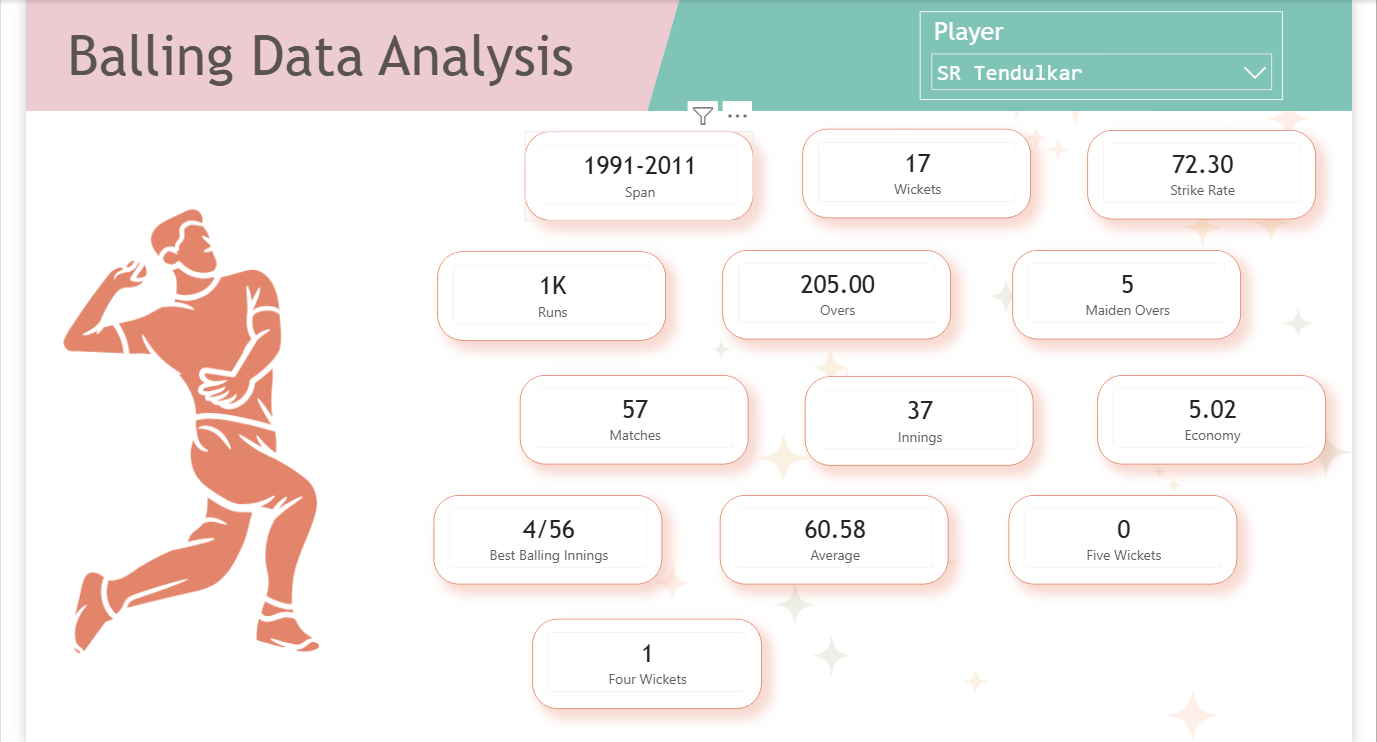

This screenshot's page, from the dashboard's own definition file:
{"tool":"powerbi","page":{"name":"Bowling","canvas":[1280,720],"ordinal":1},"visuals":[{"type":"shape","box":[0,0,640,107.1],"z":0},{"type":"shape","box":[1084.5,0,195.5,107.1],"z":1000},{"type":"shape","box":[599.8,0,680.2,107.1],"z":2000},{"type":"cardVisual","fields":{"Data":["Min(Bowling Table.Span)"]},"box":[481.7,127.1,221,86],"z":3000},{"type":"cardVisual","fields":{"Data":["Sum(Bowling Table.Wkts)"]},"box":[749.1,124.7,221,86],"z":4000},{"type":"cardVisual","fields":{"Data":["Sum(Bowling Table.SR)"]},"box":[1024.2,125.9,221,86],"z":5000},{"type":"cardVisual","fields":{"Data":["Sum(Bowling Table.Runs)"]},"box":[396.6,242,221,86],"z":6000},{"type":"cardVisual","fields":{"Data":["Sum(Bowling Table.Overs)"]},"box":[671.8,241.5,221,86],"z":7000},{"type":"cardVisual","fields":{"Data":["Sum(Bowling Table.Mdns)"]},"box":[951.7,241.5,221,86],"z":8000},{"type":"cardVisual","fields":{"Data":["Sum(Bowling Table.Mat)"]},"box":[476.6,362,221,86],"z":9000},{"type":"cardVisual","fields":{"Data":["Sum(Bowling Table.Inns)"]},"box":[751.7,362.6,221,86],"z":10000},{"type":"cardVisual","fields":{"Data":["Sum(Bowling Table.Econ)"]},"box":[1034,361.4,221,86],"z":11000},{"type":"cardVisual","fields":{"Data":["Min(Bowling Table.BBI)"]},"box":[393.2,477.1,221,86],"z":12000},{"type":"cardVisual","fields":{"Data":["Sum(Bowling Table.Ave)"]},"box":[669.8,477.1,221,86],"z":13000},{"type":"cardVisual","fields":{"Data":["Sum(Bowling Table.5)"]},"box":[948.2,477.1,221,86],"z":14000},{"type":"cardVisual","fields":{"Data":["Sum(Bowling Table.4)"]},"box":[488.6,597.2,222,86.9],"z":15000},{"type":"slicer","fields":{"Values":["Bowling Table.Player"]},"box":[862.3,10.7,350.8,85.7],"z":16000}]}

Visuals, with their boxes on the page's 1280x720 design canvas (x1, y1, x2, y2). These are canvas units, not pixel positions in the 1377x742 screenshot, which may show the page scaled, cropped or inside an application window:
shape: locate(0, 0, 640, 107)
shape: locate(1084, 0, 1280, 107)
shape: locate(600, 0, 1280, 107)
cardVisual - Min(Bowling Table.Span): locate(482, 127, 703, 213)
cardVisual - Sum(Bowling Table.Wkts): locate(749, 125, 970, 211)
cardVisual - Sum(Bowling Table.SR): locate(1024, 126, 1245, 212)
cardVisual - Sum(Bowling Table.Runs): locate(397, 242, 618, 328)
cardVisual - Sum(Bowling Table.Overs): locate(672, 242, 893, 328)
cardVisual - Sum(Bowling Table.Mdns): locate(952, 242, 1173, 328)
cardVisual - Sum(Bowling Table.Mat): locate(477, 362, 698, 448)
cardVisual - Sum(Bowling Table.Inns): locate(752, 363, 973, 449)
cardVisual - Sum(Bowling Table.Econ): locate(1034, 361, 1255, 447)
cardVisual - Min(Bowling Table.BBI): locate(393, 477, 614, 563)
cardVisual - Sum(Bowling Table.Ave): locate(670, 477, 891, 563)
cardVisual - Sum(Bowling Table.5): locate(948, 477, 1169, 563)
cardVisual - Sum(Bowling Table.4): locate(489, 597, 711, 684)
slicer - Bowling Table.Player: locate(862, 11, 1213, 96)
